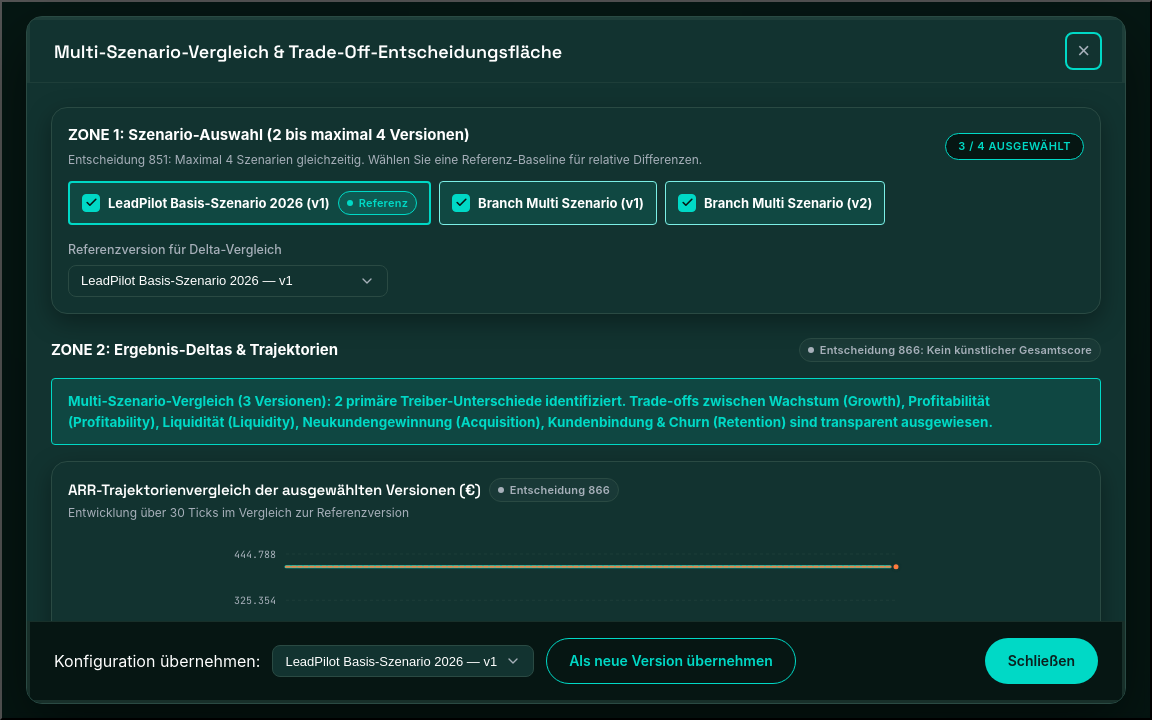
Test: MultiScenarioComparisonModal (branch) › Abwählen einer von drei Versionen schrumpft Auswahl auf 2
The image size is (1152, 720).
expect the text "3 / 4 ausgewählt" is shown: met, box [945,133,1084,160]
What coordinates should you click on to do the following:
click the checkbox labelled "LeadPilot Basis-Szenario 2026 (v1)"
I would click on:
 (206, 203)
Its box is [82,194,330,212].
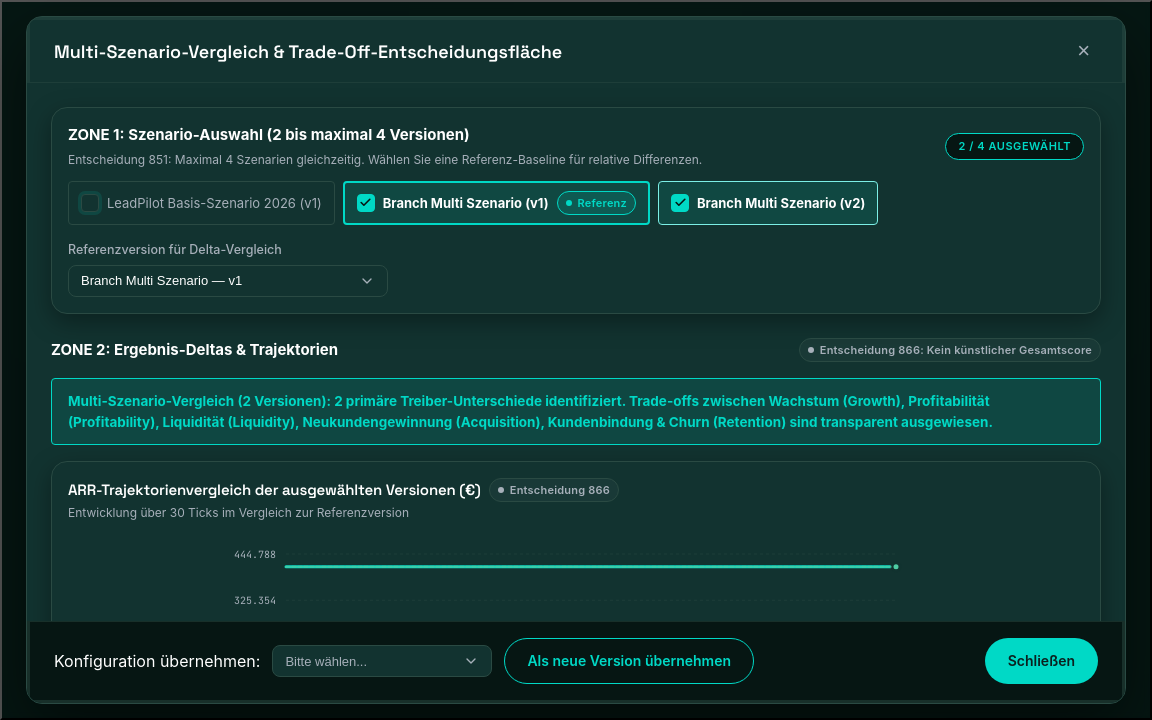
expect the text "2 / 4 ausgewählt" is shown: met, box [945,133,1084,160]
